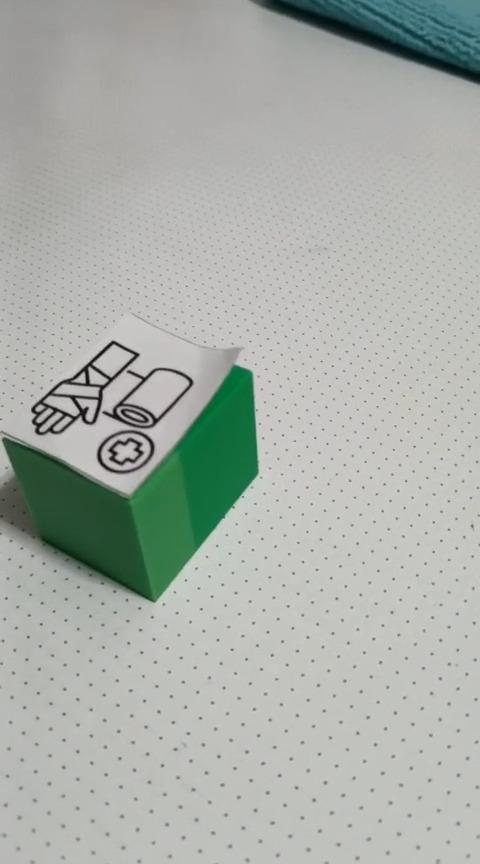Bandages: (1, 310, 259, 602)
